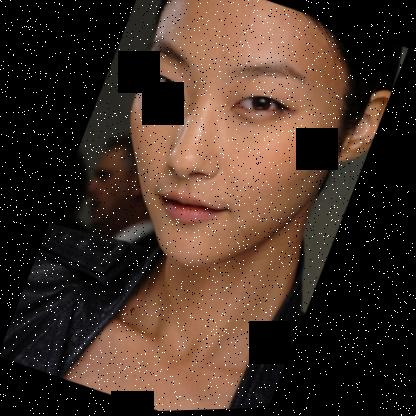Female: (77, 0, 408, 311)
